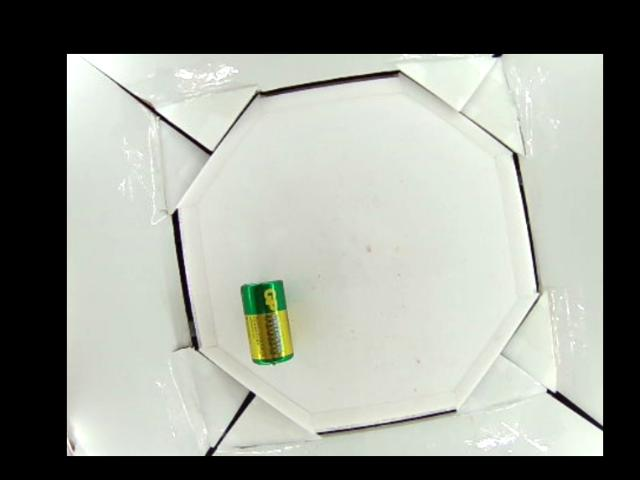Battery: (236, 279, 293, 365)
